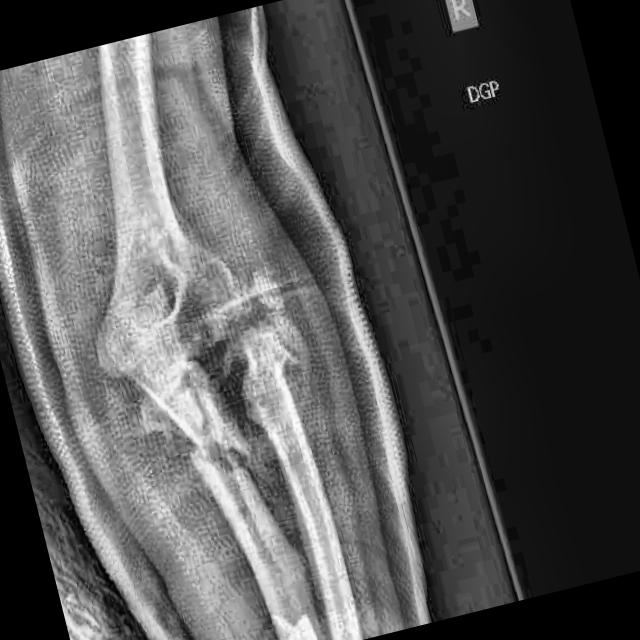elbow positive: (144, 376, 273, 518)
